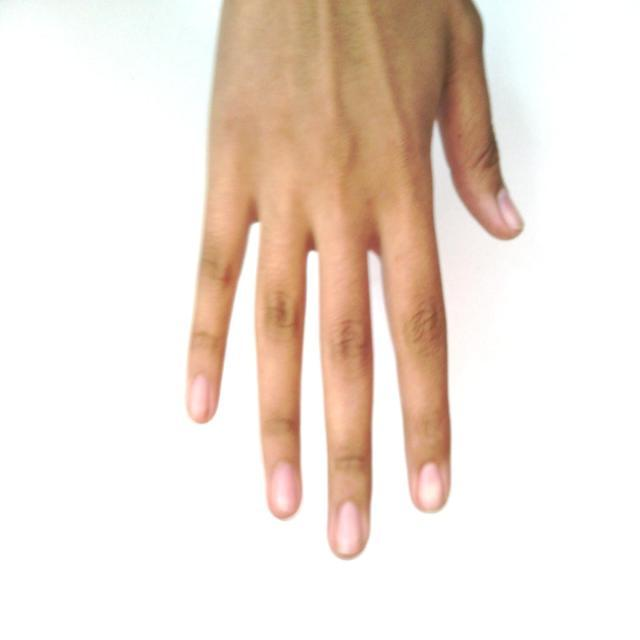Fingernail: (336, 501, 362, 555), (272, 462, 297, 514), (419, 463, 443, 511), (498, 189, 523, 230), (190, 376, 208, 419)
